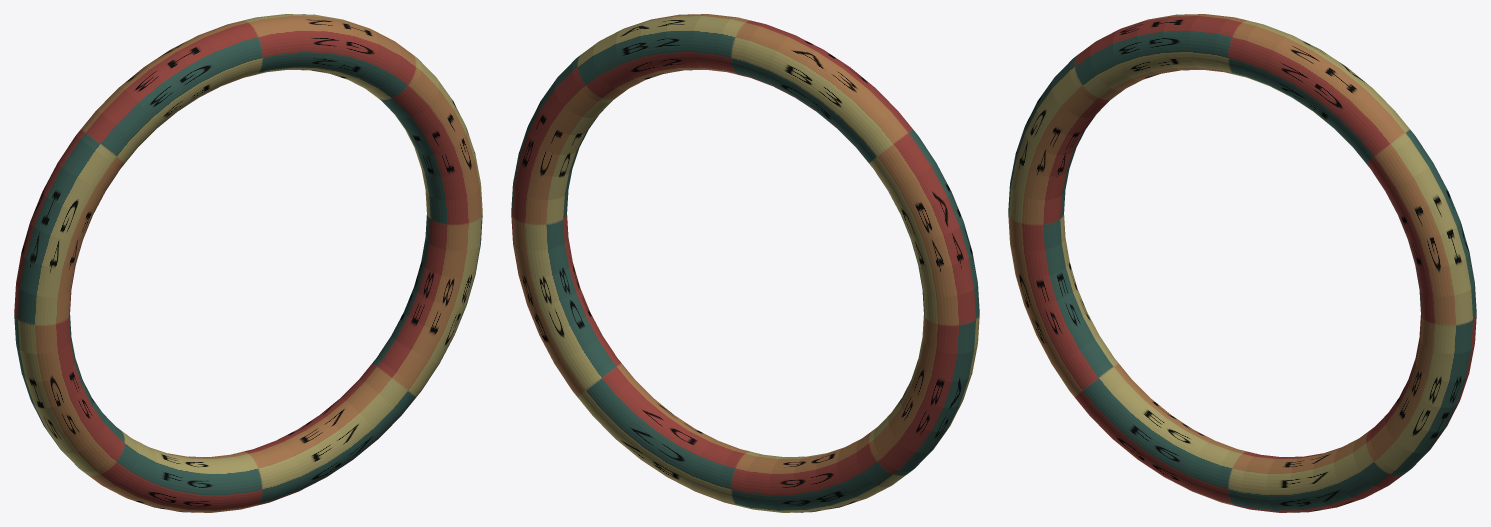
File: texture_torus_R14_r1.glb
3 renders of one model, left to right at view 1: azimuth 30°, elevation 25°; view 2: azimuth 150°, elevation 25°; view 3: azimuth 330°, elevation 25°, orthographic.
Parts seen in each view (by area): view 1: world; view 2: world; view 3: world.
Boxes of the visible parts, box(x1,y1,x2,y2) form: world: box(14, 14, 482, 512); world: box(511, 14, 979, 512); world: box(1008, 14, 1476, 512).
Size of the model in its own units: 21.6 by 21.56 by 2.26.
1 material, 1 textured.
